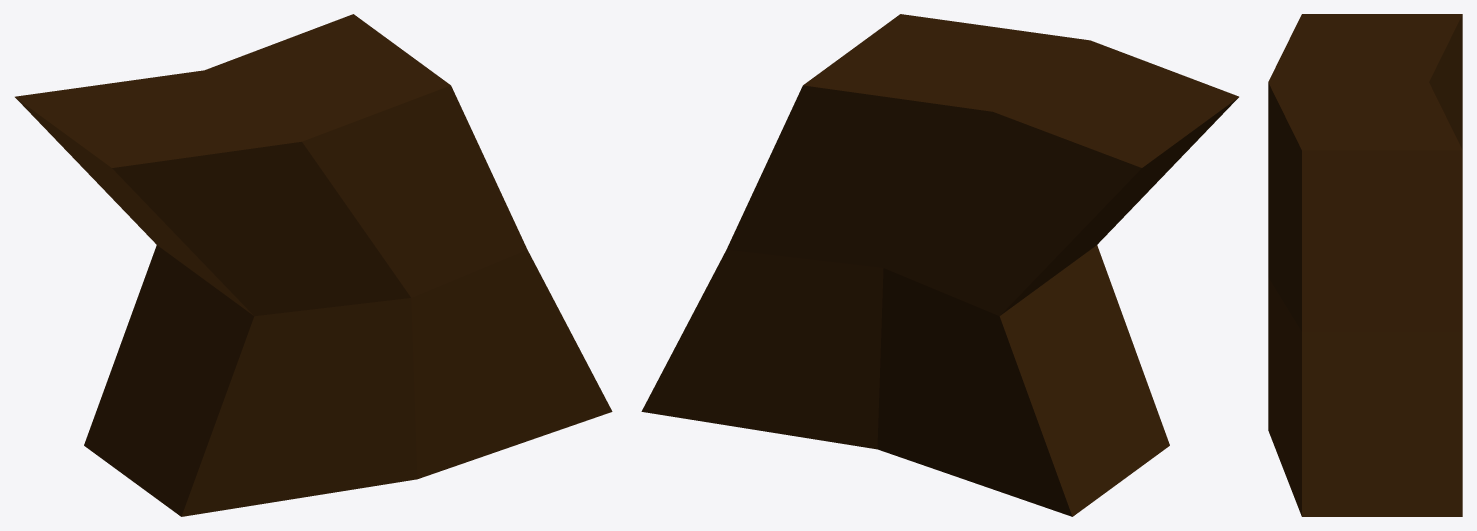
Rendered from tank_destroyed_4.glb.
3 renders of one model, left to right at view 1: azimuth 30°, elevation 25°; view 2: azimuth 150°, elevation 25°; view 3: azimuth 270°, elevation 25°, orthographic. The views are drawn at different scales.
Visible parts, largest first — view 1: tank_destroyed_4; view 2: tank_destroyed_4; view 3: tank_destroyed_4.
Boxes of the visible parts, bbox=[...] form: tank_destroyed_4: bbox=[15, 14, 612, 516]; tank_destroyed_4: bbox=[641, 14, 1238, 516]; tank_destroyed_4: bbox=[1268, 14, 1462, 516].
Bounding box in the file's own units: 0.7604 × 0.5309 × 0.3104.
1 material, 1 textured.
